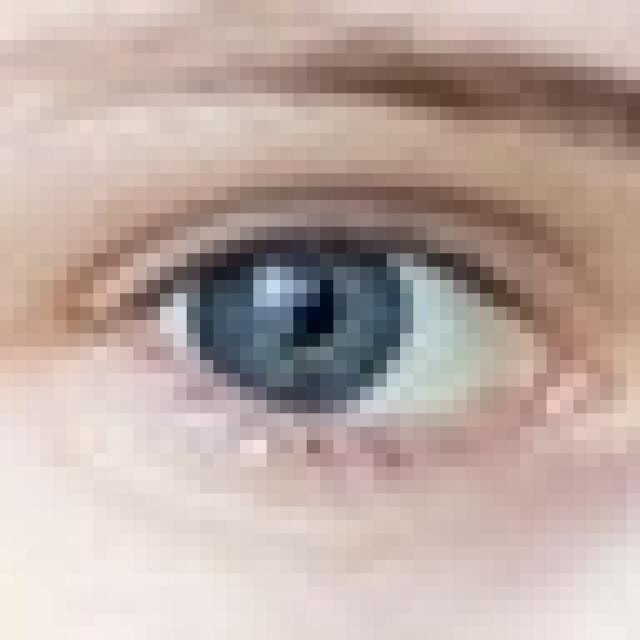eye: (0, 197, 638, 512)
